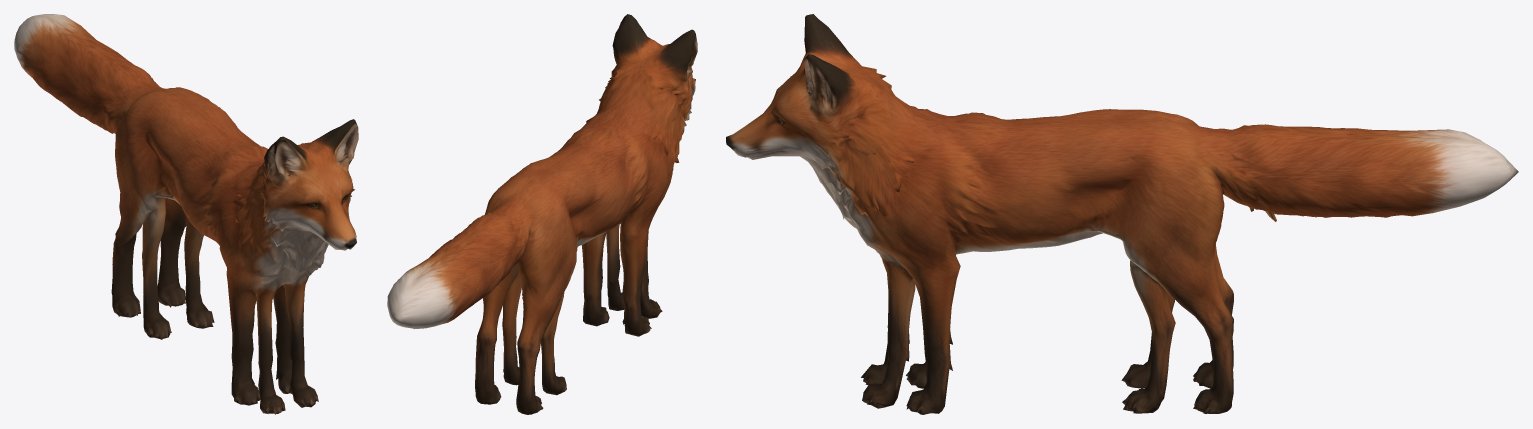
The model's file is fox_tripo_0eb518ca_raw.glb.
The picture shows the model from 3 angles, left to right: view 1: azimuth 30°, elevation 25°; view 2: azimuth 150°, elevation 25°; view 3: azimuth 270°, elevation 25°; orthographic projection. The views are drawn at different scales.
Visible parts, largest first — view 1: tripo_node_640274f6-aaa0-41a7-b959-bdd41894b34c; view 2: tripo_node_640274f6-aaa0-41a7-b959-bdd41894b34c; view 3: tripo_node_640274f6-aaa0-41a7-b959-bdd41894b34c.
Boxes of the visible parts, x1,y1,x2,y2 form: tripo_node_640274f6-aaa0-41a7-b959-bdd41894b34c: (14,14,358,414); tripo_node_640274f6-aaa0-41a7-b959-bdd41894b34c: (387,14,697,414); tripo_node_640274f6-aaa0-41a7-b959-bdd41894b34c: (726,14,1518,414).
Size of the model in its own units: 0.1674 by 0.4976 by 0.9829.
Materials: 1 (1 with a texture image).
